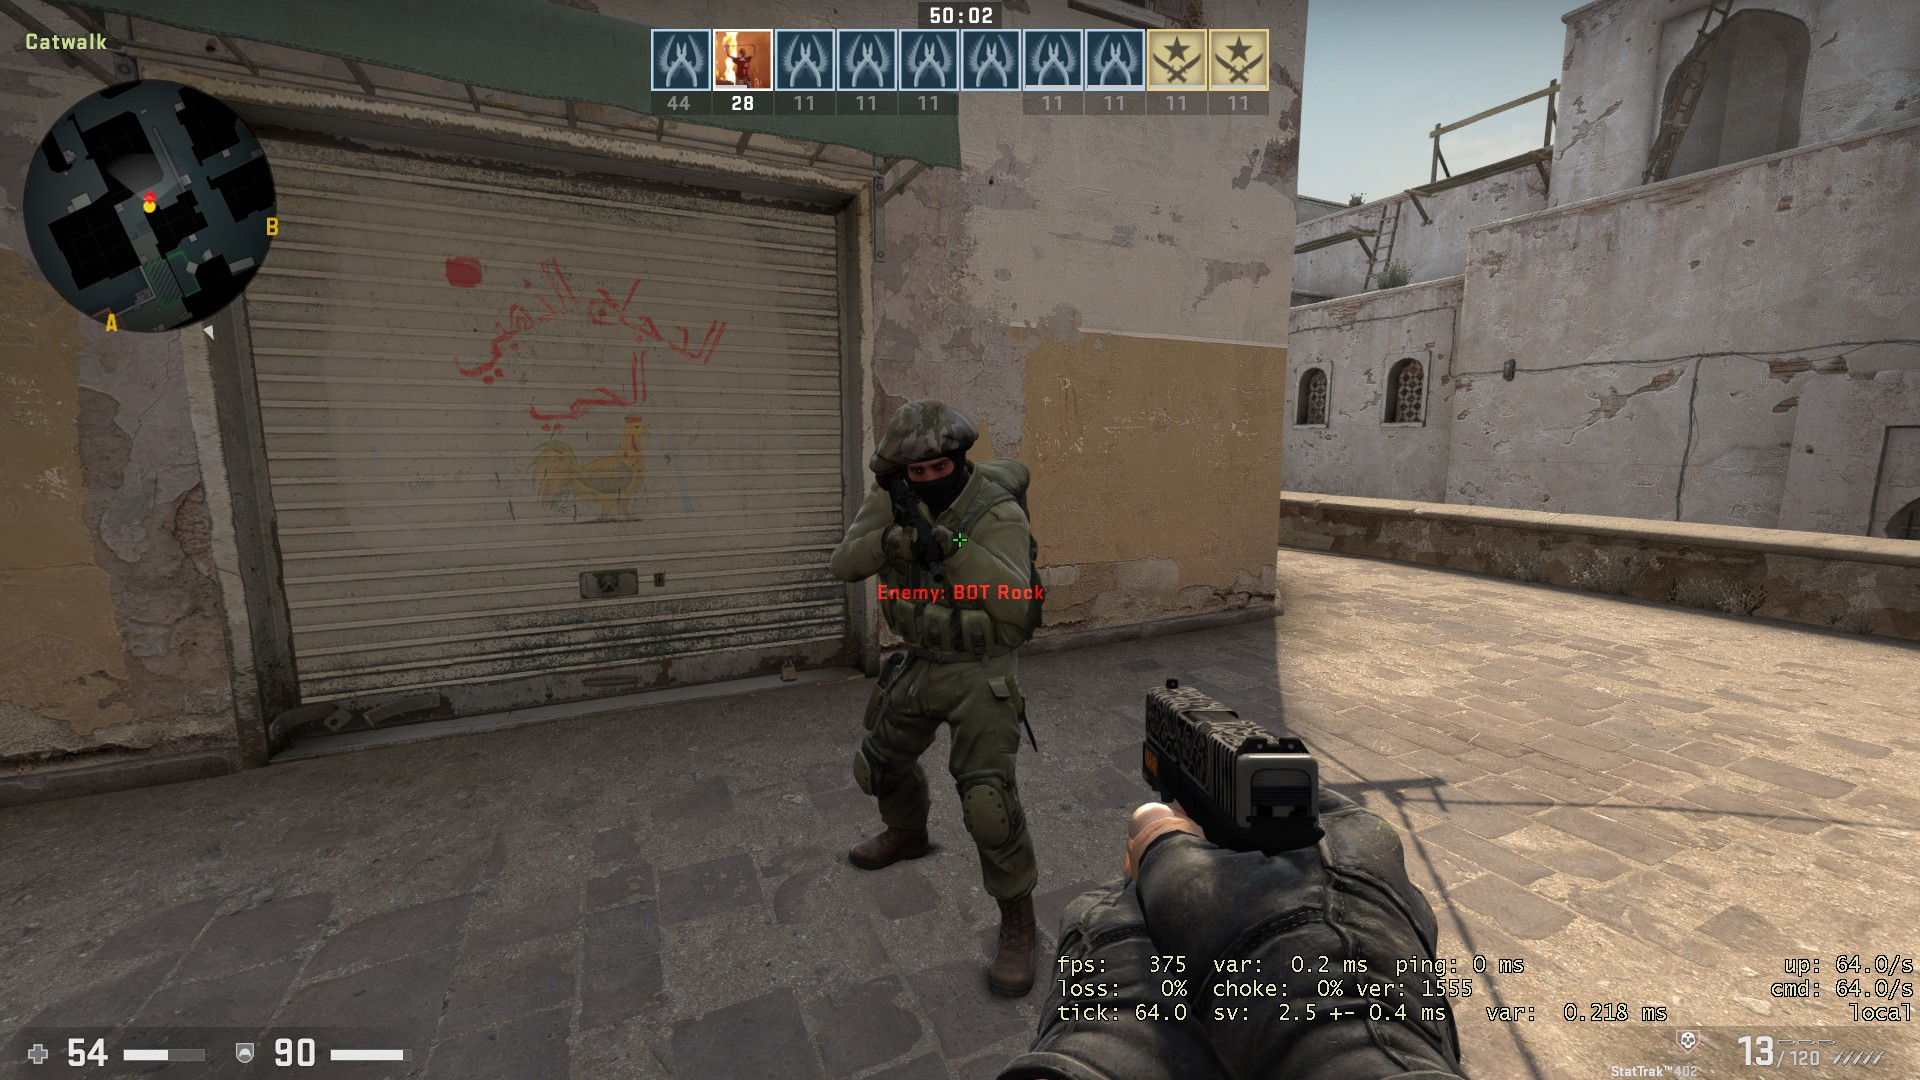player: (816, 384, 1054, 1006)
